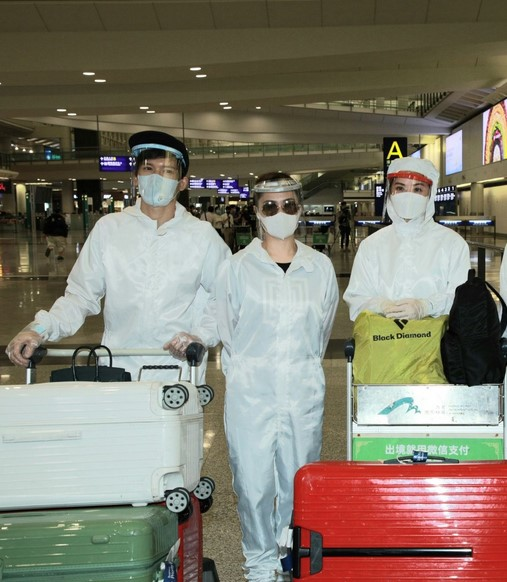face_with_mask: (131, 134, 192, 211), (246, 174, 306, 242), (380, 160, 444, 220)
